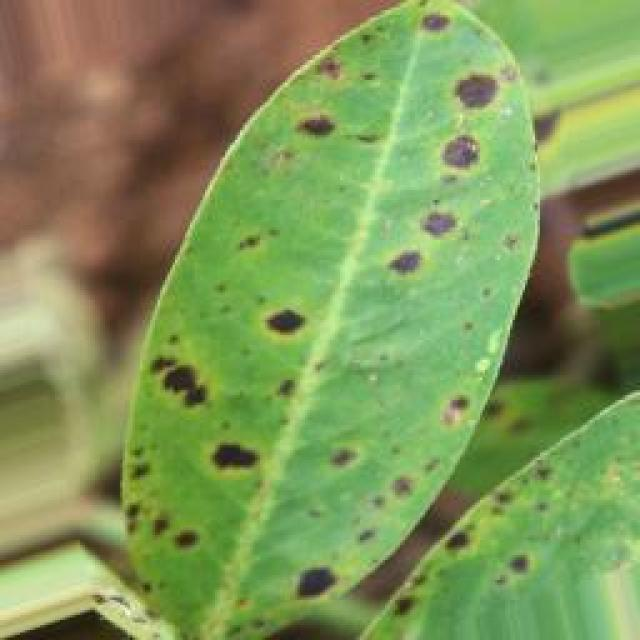Yellowish: (114, 0, 608, 638)
